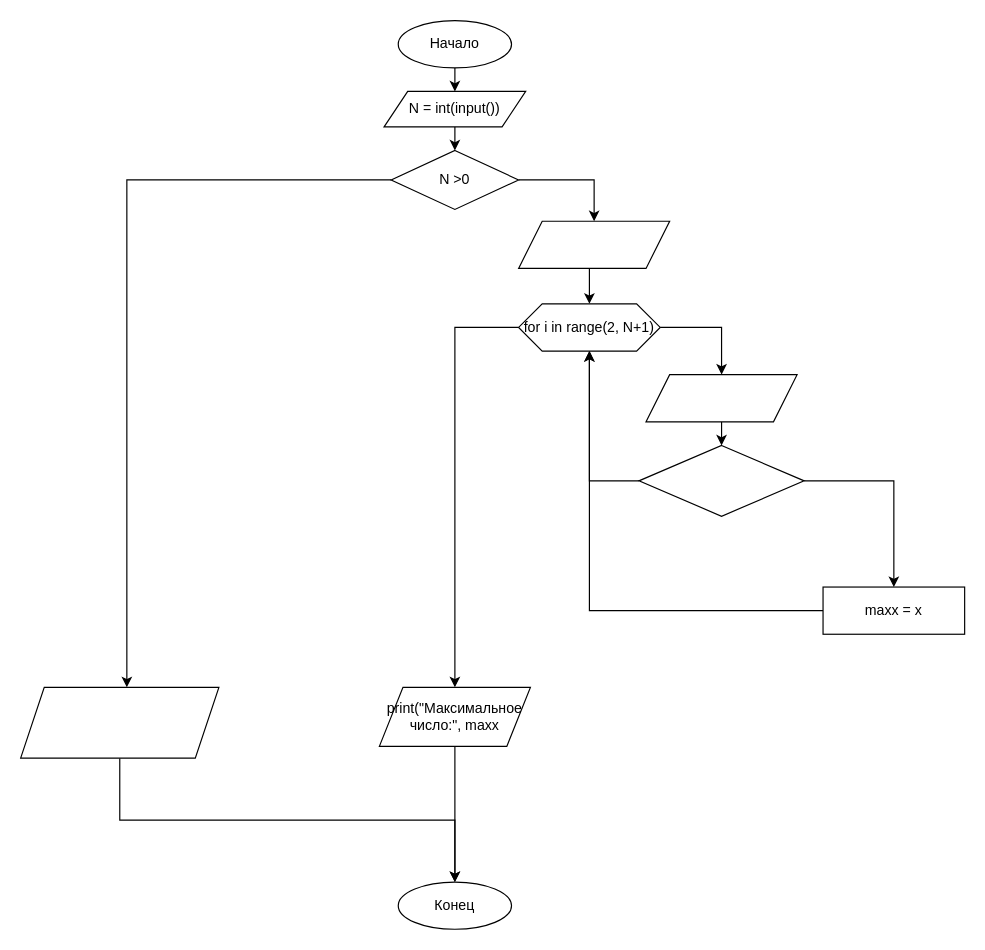
This 985x950 diagram has some shape labels left out. The shapes that lost their labels are listed below. From the top down, each one's centre as x and y in pixels, then its label:
(593,244): maxx = int(input())
(721,397): x = int(input())
(721,480): x > maxx?
(119,722): print("N должно быть больше 0")
